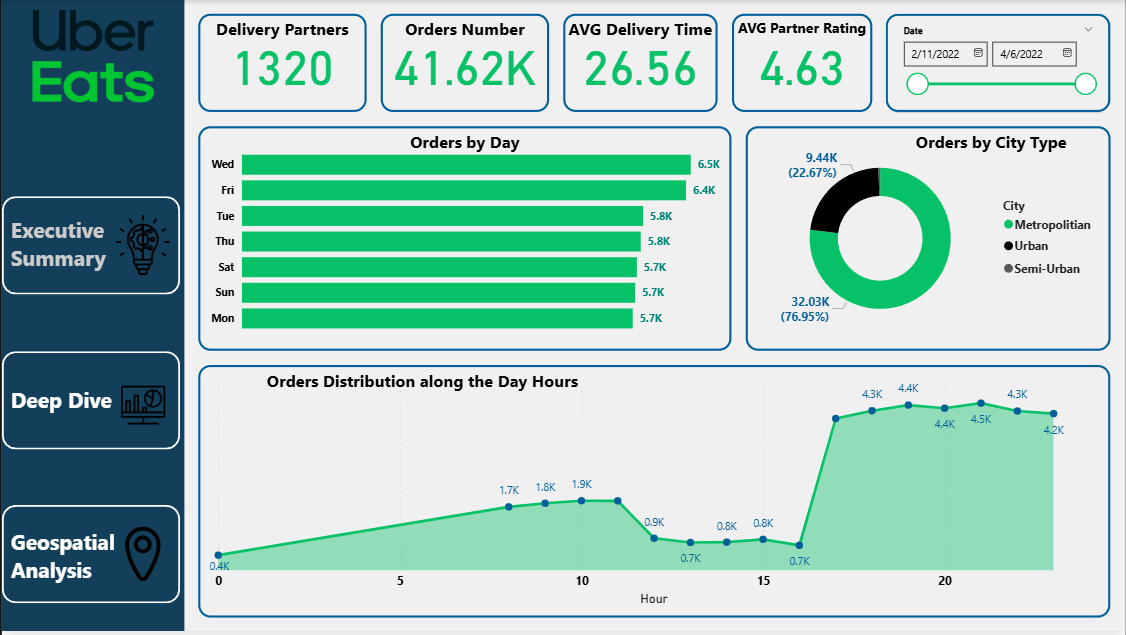

The page's visual inventory and layout, read from the dashboard file:
{"tool":"powerbi","page":{"name":"Executive Summary","canvas":[1280,720],"ordinal":0},"visuals":[{"type":"card","fields":{"Values":["Count(cleaned_delivery_data.ID)"]},"box":[432,16,192,112],"z":0},{"type":"card","fields":{"Values":["Avg(cleaned_delivery_data.Time_taken(min))"]},"box":[640,16,176,112],"z":1000},{"type":"card","fields":{"Values":["Avg(cleaned_delivery_data.Delivery_person_Ratings)"]},"box":[832,16,160,112],"z":2000},{"type":"slicer","fields":{"Values":["DateTable.Date"]},"box":[1008,16,256,112],"z":3000},{"type":"donutChart","fields":{"Y":["Count(cleaned_delivery_data.ID)"],"Category":["cleaned_delivery_data.City"]},"box":[848,144,416,256],"z":4000},{"type":"clusteredBarChart","fields":{"Category":["DateTable.DayOfWeek"],"Y":["Count(cleaned_delivery_data.ID)"]},"box":[224,144,608,256],"z":5000},{"type":"areaChart","fields":{"Category":["cleaned_delivery_data.Hour"],"Y":["CountNonNull(cleaned_delivery_data.ID)"]},"box":[224,416,1040,288],"z":6000},{"type":"card","fields":{"Values":["Count(cleaned_delivery_data.Delivery_person_ID)"]},"box":[224,16,192,112],"z":7000},{"type":"textbox","box":[224,16,192,48],"z":8000},{"type":"textbox","box":[432,16,192,48],"z":9000},{"type":"textbox","box":[640,16,176,48],"z":10000},{"type":"textbox","box":[832,16,160,64],"z":11000},{"type":"textbox","box":[224,144,608,48],"z":12000},{"type":"shape","box":[0,0,208,720],"z":13000},{"type":"textbox","box":[992,144,272,48],"z":14000},{"type":"image","box":[0,0,208,128],"z":15000},{"type":"textbox","box":[240,416,480,48],"z":16000},{"type":"pageNavigator","box":[0,192,208,528],"z":17000},{"type":"shape","box":[0,224,203,112],"z":18000},{"type":"shape","box":[0,400,203,112],"z":19000},{"type":"shape","box":[0,576,203,112],"z":20000},{"type":"image","box":[112,240,96,80],"z":21000},{"type":"image","box":[112,432,96,60],"z":22000},{"type":"image","box":[112,592,96,80],"z":23000}]}

Visuals, with their boxes in screenshot pixels (x1, y1, x2, y2), scaled from the page's 1280x720 canvas onto the 1126x635 screenshot:
card - Count(cleaned_delivery_data.ID): bbox=[380, 14, 549, 113]
card - Avg(cleaned_delivery_data.Time_taken(min)): bbox=[563, 14, 718, 113]
card - Avg(cleaned_delivery_data.Delivery_person_Ratings): bbox=[732, 14, 873, 113]
slicer - DateTable.Date: bbox=[887, 14, 1112, 113]
donutChart - Count(cleaned_delivery_data.ID) x cleaned_delivery_data.City: bbox=[746, 127, 1112, 353]
clusteredBarChart - DateTable.DayOfWeek x Count(cleaned_delivery_data.ID): bbox=[197, 127, 732, 353]
areaChart - cleaned_delivery_data.Hour x CountNonNull(cleaned_delivery_data.ID): bbox=[197, 367, 1112, 621]
card - Count(cleaned_delivery_data.Delivery_person_ID): bbox=[197, 14, 366, 113]
textbox: bbox=[197, 14, 366, 56]
textbox: bbox=[380, 14, 549, 56]
textbox: bbox=[563, 14, 718, 56]
textbox: bbox=[732, 14, 873, 71]
textbox: bbox=[197, 127, 732, 169]
shape: bbox=[0, 0, 183, 634]
textbox: bbox=[873, 127, 1112, 169]
image: bbox=[0, 0, 183, 113]
textbox: bbox=[211, 367, 633, 409]
pageNavigator: bbox=[0, 169, 183, 634]
shape: bbox=[0, 198, 179, 296]
shape: bbox=[0, 353, 179, 452]
shape: bbox=[0, 508, 179, 607]
image: bbox=[99, 212, 183, 282]
image: bbox=[99, 381, 183, 434]
image: bbox=[99, 522, 183, 593]
